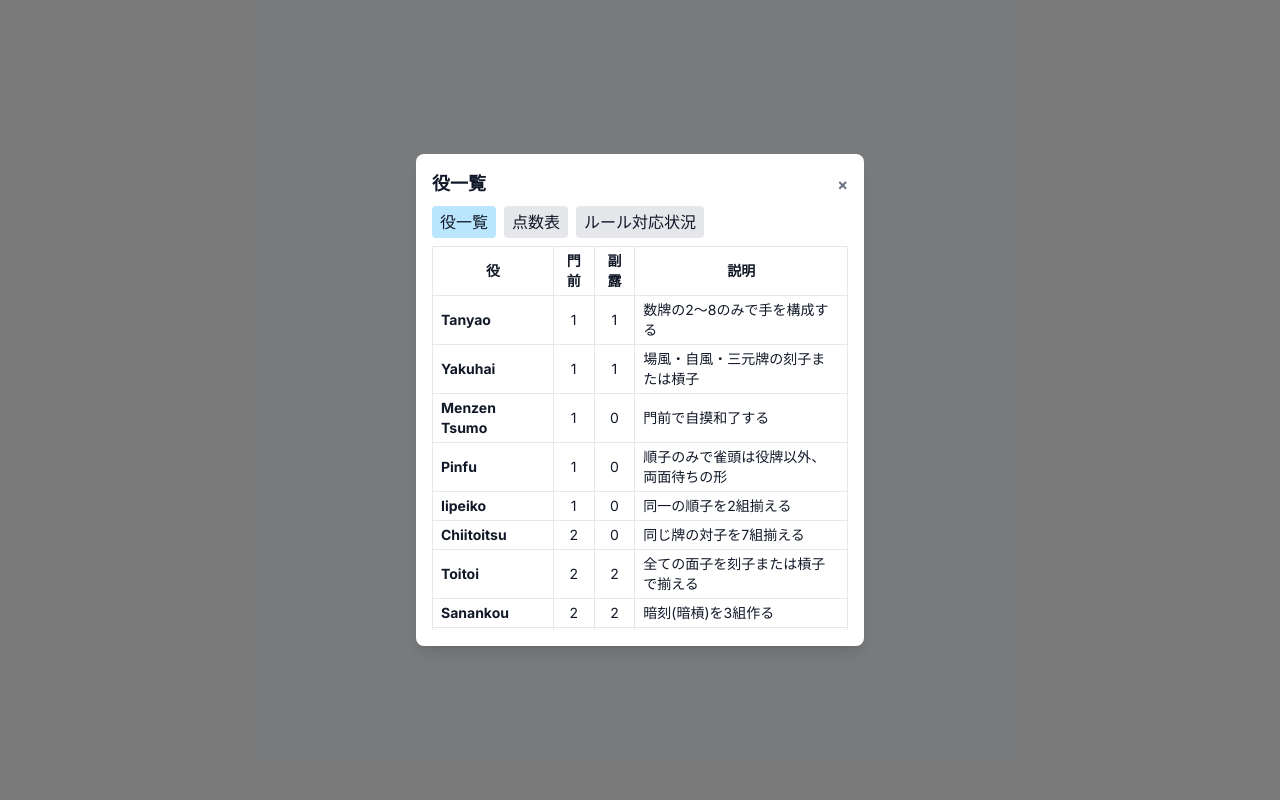
Test: HelpModal › displays rule status list with README link
Click the button "ルール対応状況". click: (640, 222)
box: [576,206,704,238]
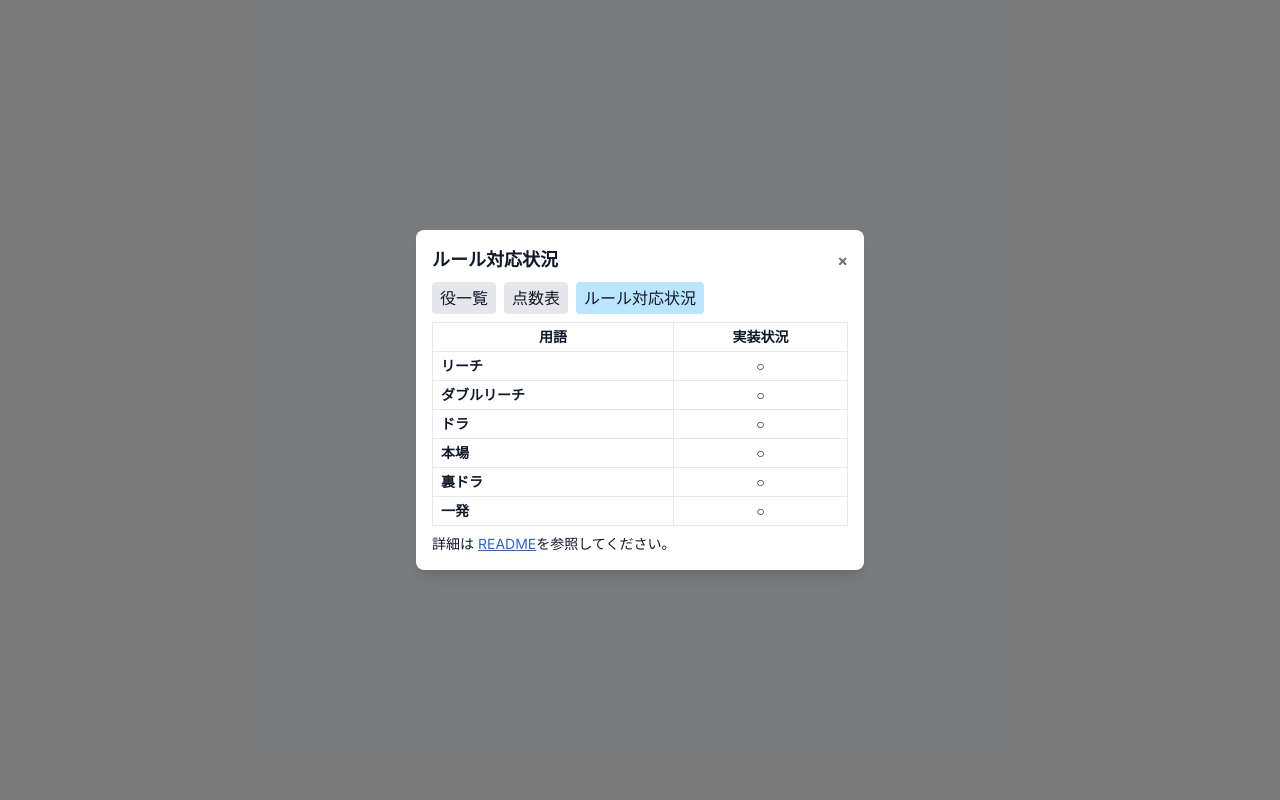
Expected: the heading "ルール対応状況" is shown, [432,246,558,274]
Expected: the text "リーチ" is shown, [432,352,673,380]
Expected: the text "ドラ" is shown, [432,410,673,438]
